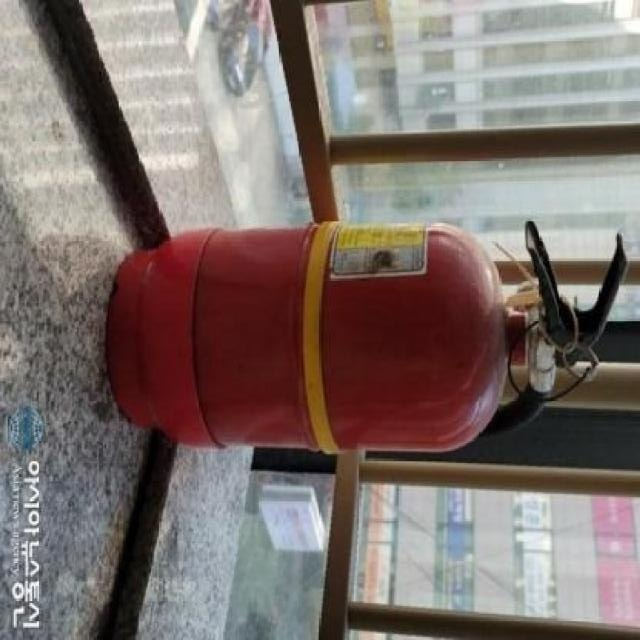fire extinguisher: (106, 219, 629, 453)
